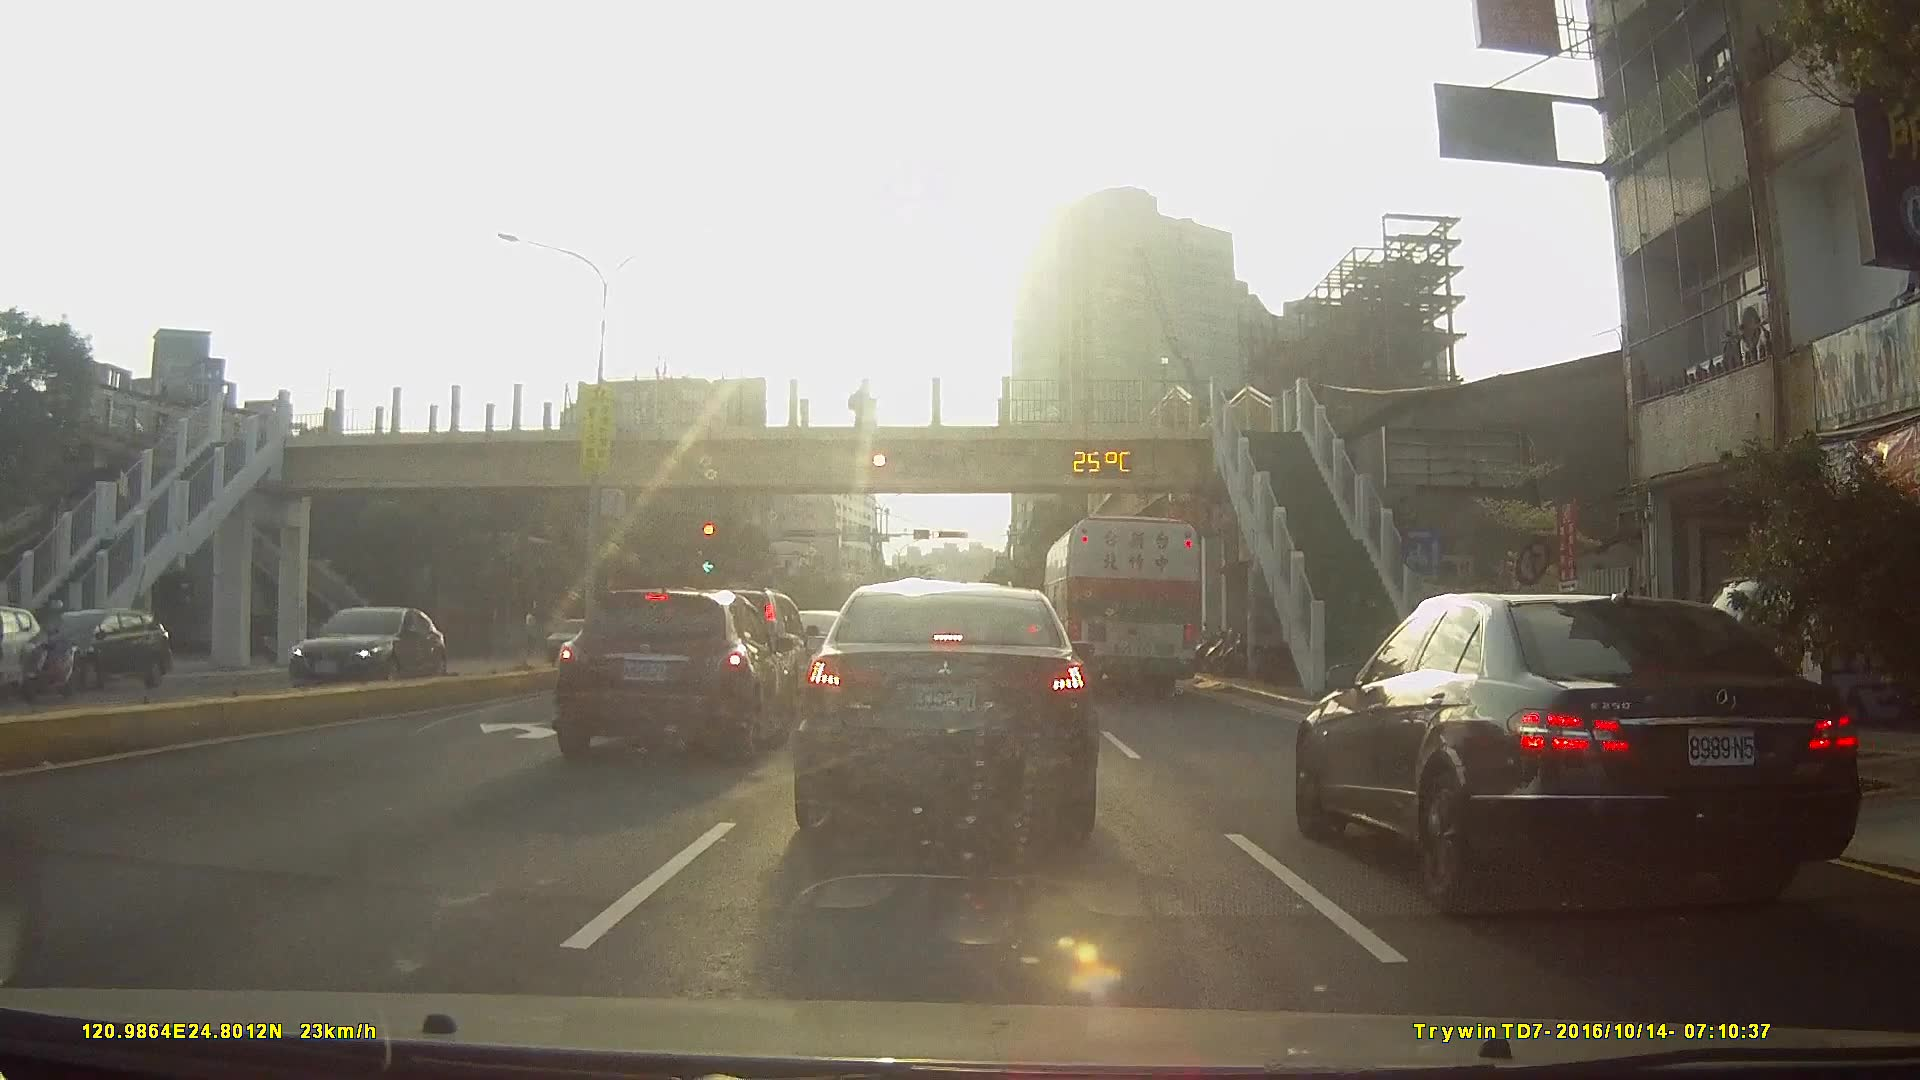pedestrian: (848, 384, 871, 432)
rider: (15, 595, 76, 702)
vehicle: (1287, 588, 1852, 913), (789, 579, 1100, 840), (547, 583, 799, 766), (1041, 514, 1204, 699), (270, 605, 439, 693), (30, 606, 171, 691), (0, 604, 47, 699), (540, 616, 603, 662)
